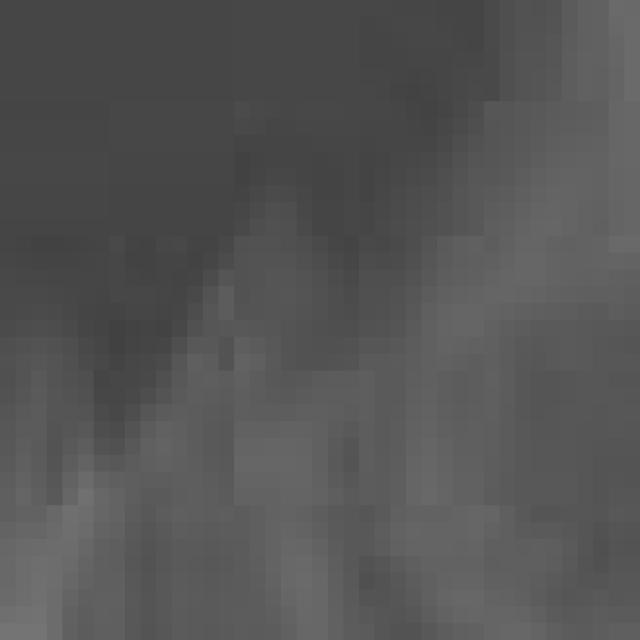fracture: (7, 17, 640, 640)
